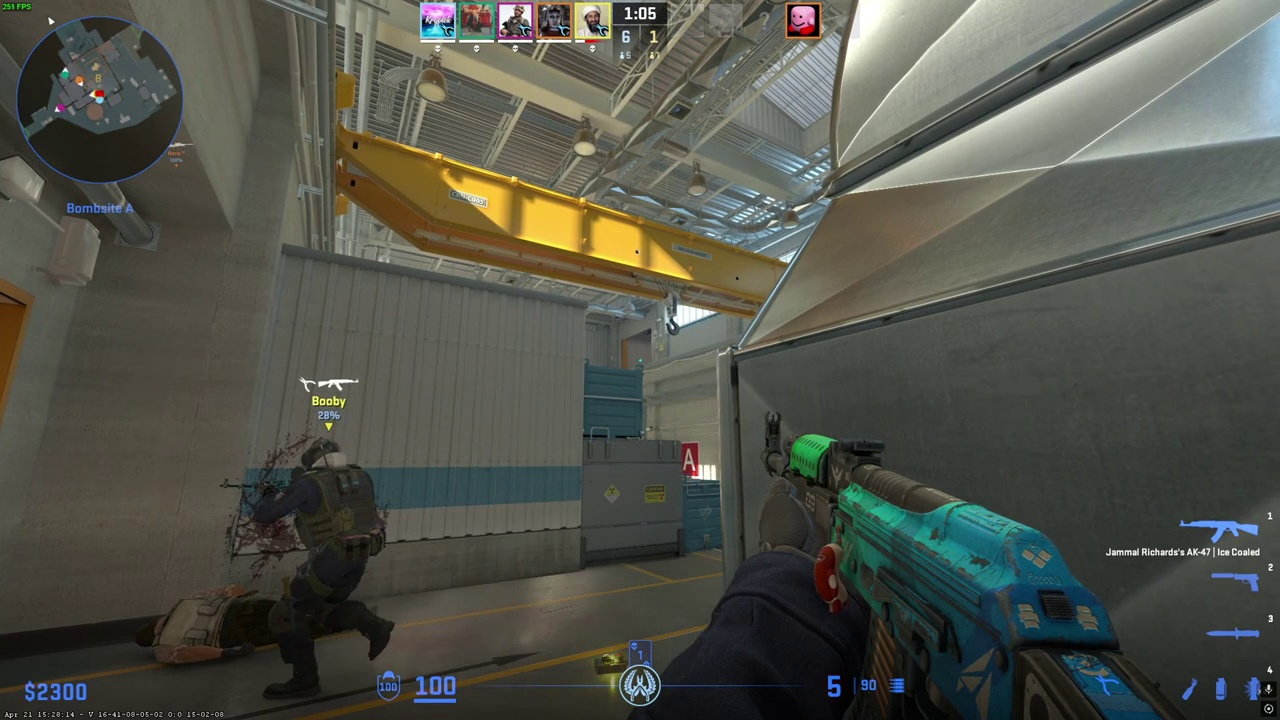CT: (245, 436, 393, 701)
